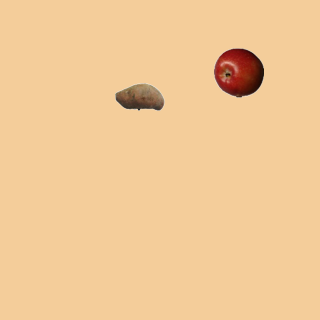Apple Braeburn: (213, 47, 263, 97)
Potato Sweet: (114, 71, 164, 121)
